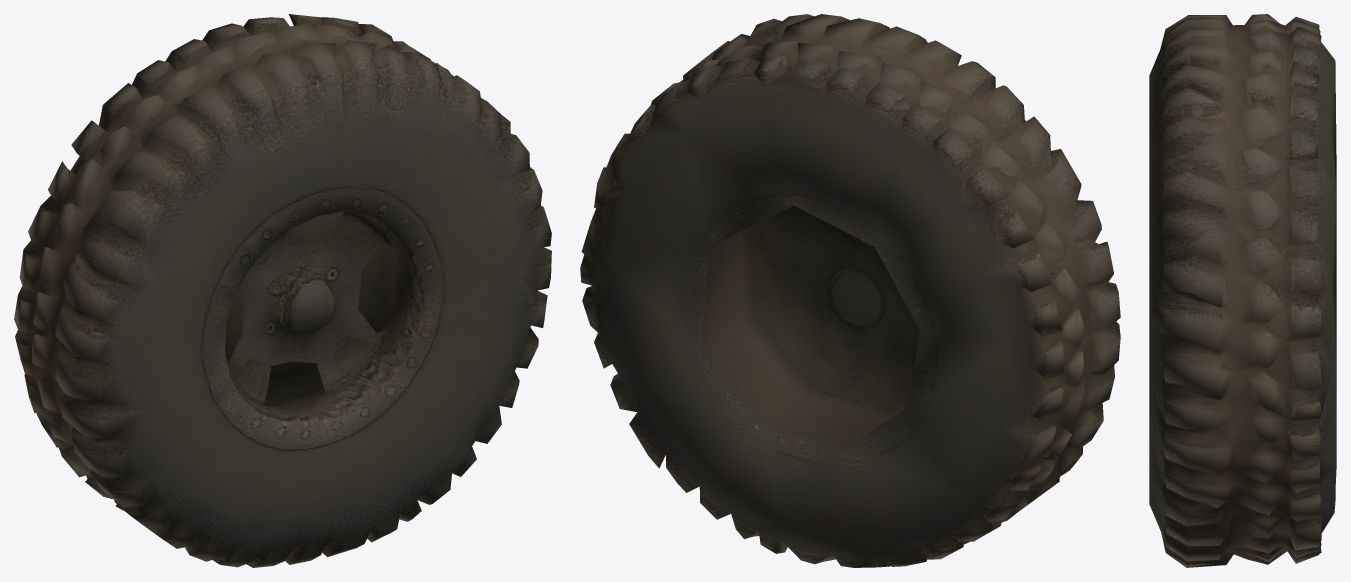
File: BuggyWheel.glb
3 views of the same model, side by side, from view 1: azimuth 30°, elevation 25°; view 2: azimuth 150°, elevation 25°; view 3: azimuth 270°, elevation 25° (orthographic).
Parts seen in each view (by area): view 1: tripo_node_07f5771e-a464-4570-acd0-31cfb372f68e; view 2: tripo_node_07f5771e-a464-4570-acd0-31cfb372f68e; view 3: tripo_node_07f5771e-a464-4570-acd0-31cfb372f68e.
Boxes of the visible parts, x1=… form: tripo_node_07f5771e-a464-4570-acd0-31cfb372f68e: x1=14, y1=14, x2=551, y2=567; tripo_node_07f5771e-a464-4570-acd0-31cfb372f68e: x1=580, y1=14, x2=1120, y2=567; tripo_node_07f5771e-a464-4570-acd0-31cfb372f68e: x1=1149, y1=14, x2=1336, y2=567.
Size of the model in its own units: 0.998 by 0.998 by 0.3418.
Materials: 1 (1 with a texture image).
